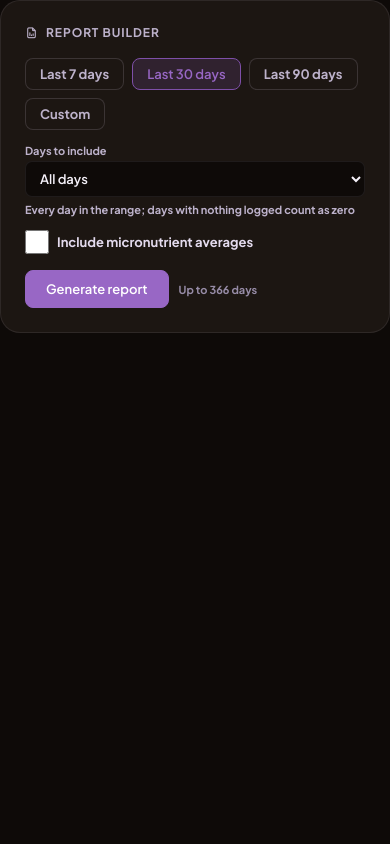
ReportsTab › switches presets
Click the button "Last 7 days".
click(75, 74)  # box x1=25 y1=58 x2=124 y2=90
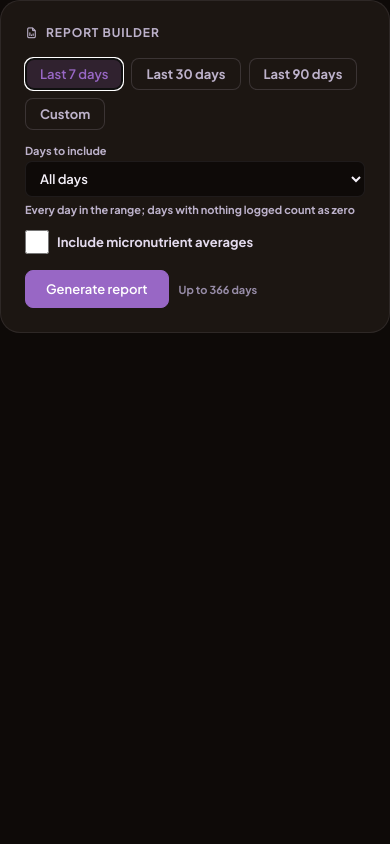
Click the button "Generate report".
click(97, 289)  # box x1=25 y1=270 x2=169 y2=308
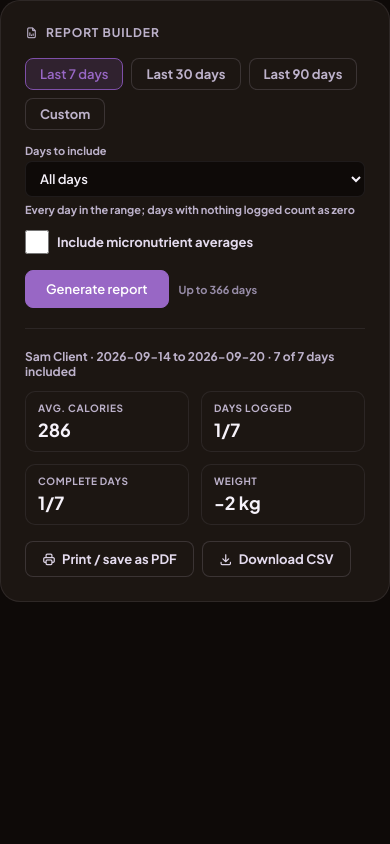
Expected: the button "Download CSV" is shown, x1=202 y1=541 x2=351 y2=577
